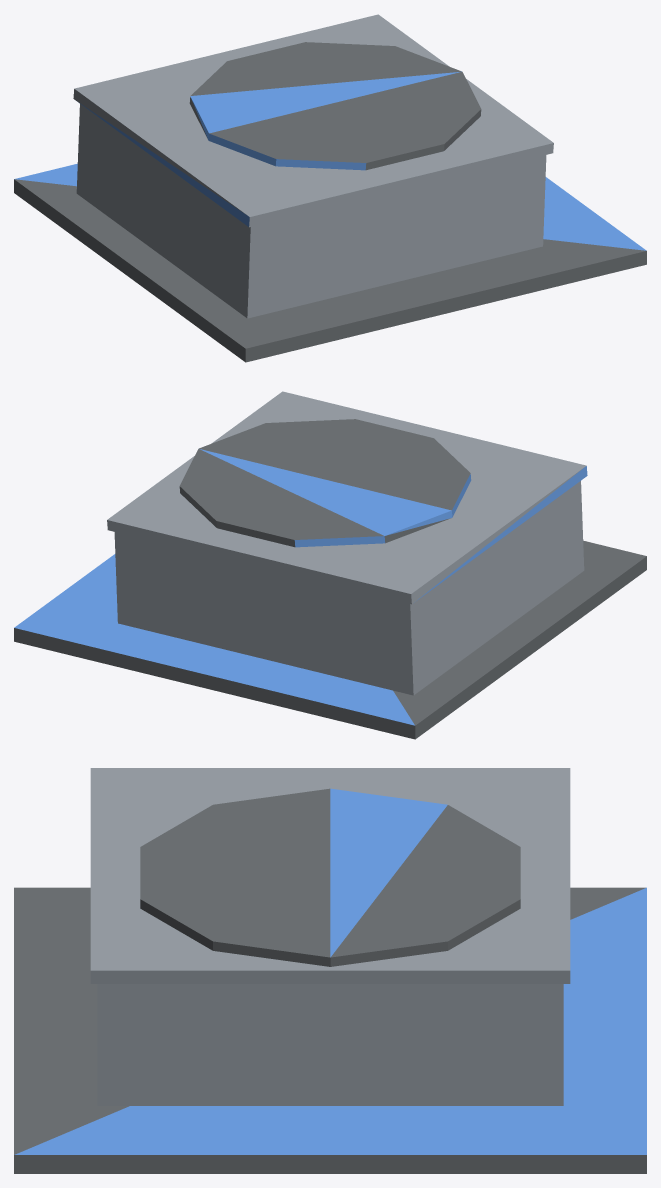
The model's file is veyran_radar_heavily_damaged.glb.
3 renders of one model, top to bottom at view 1: azimuth 30°, elevation 25°; view 2: azimuth 150°, elevation 25°; view 3: azimuth 270°, elevation 25°, orthographic. The views are drawn at different scales.
Parts seen in each view (by area): view 1: hull, dish; view 2: hull, dish; view 3: hull, dish.
Boxes of the visible parts, x1,y1,x2,y2 form: hull: (14, 14, 646, 362); dish: (189, 42, 481, 170); hull: (14, 391, 646, 739); dish: (179, 419, 471, 547); hull: (14, 768, 646, 1173); dish: (140, 788, 520, 966).
Size of the model in its own units: 7.6 by 2.26 by 7.6.
